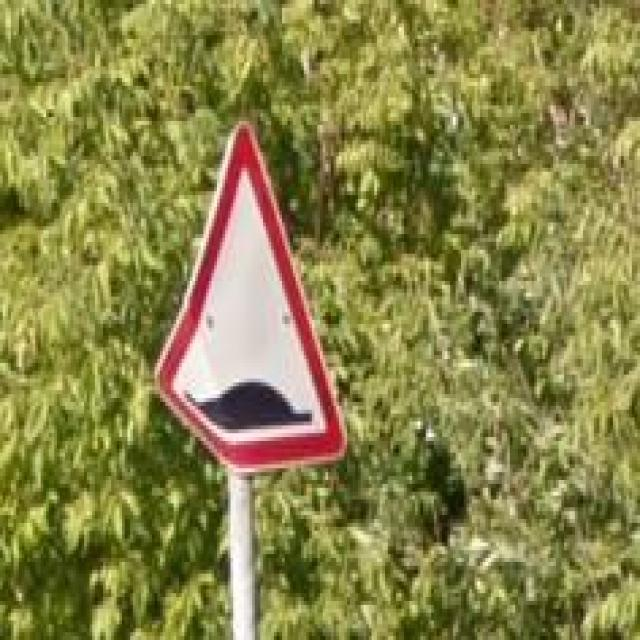traffic_sign: (152, 121, 350, 472)
